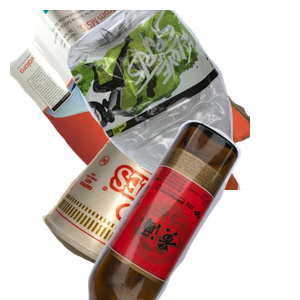glass: (85, 120, 300, 300)
paper: (10, 10, 250, 190)
plastic: (64, 10, 300, 190)
trash: (40, 121, 221, 300)
